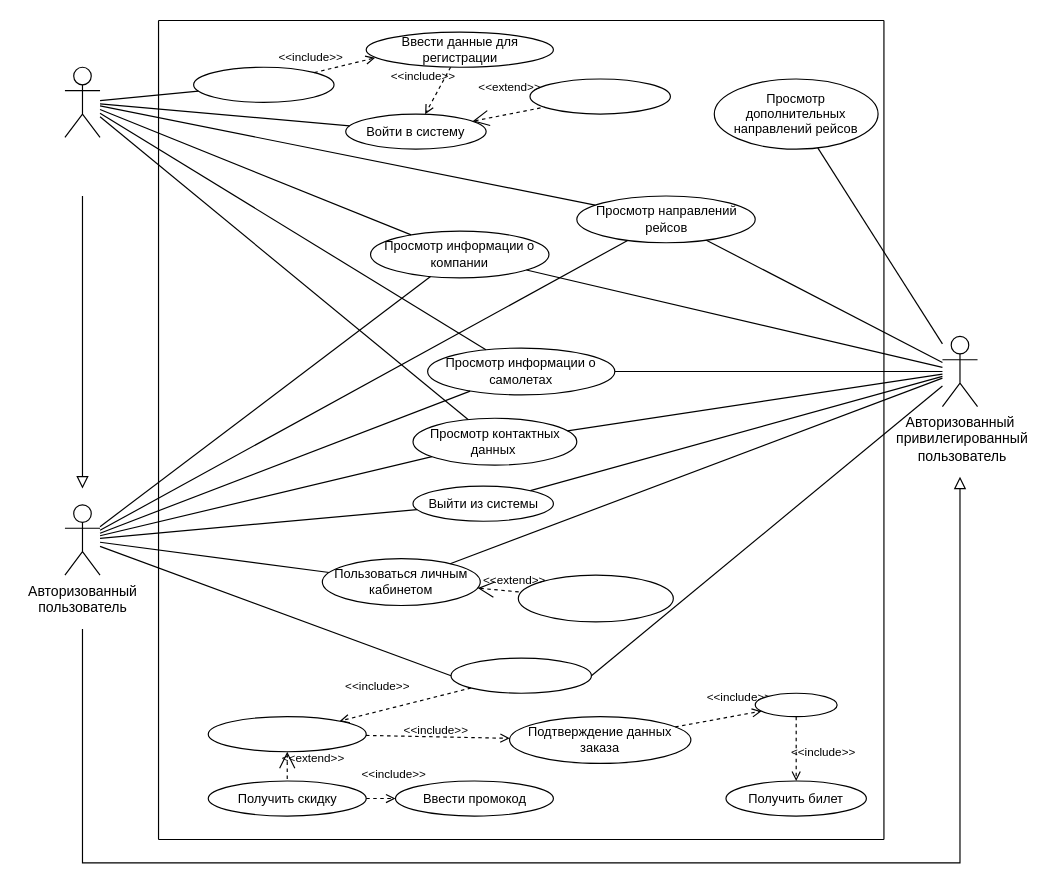
This 1048x895 diagram has some shape labels left out. Here are the shapes that lost their labels. From the top down, the centre of each, then its label:
At pixel 82 101: "Неавторизованный пользователь".
At pixel 263 84: "Зарегистрироваться".
At pixel 599 96: "Ввести логин и пароль".
At pixel 595 598: "Посмотреть историю заказов".
At pixel 520 675: "Выбрать рейс".
At pixel 795 704: "Оплата".
At pixel 286 733: "Заполнить данные пасажира".
